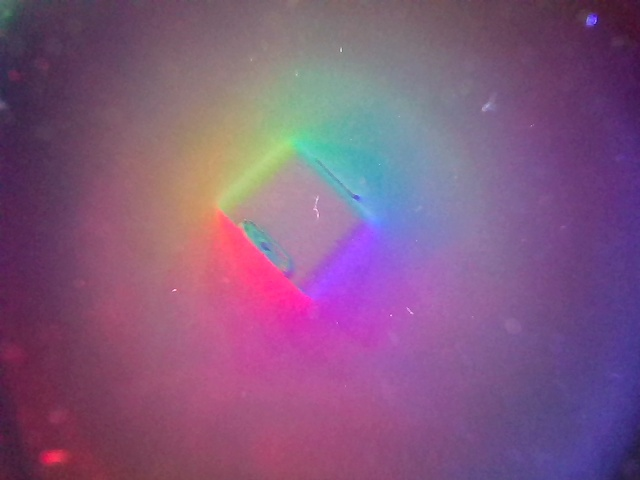contact: (220, 138, 382, 298)
